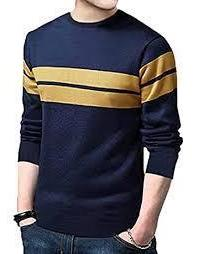sweater: (16, 7, 184, 237)
trousers: (20, 223, 158, 254)
